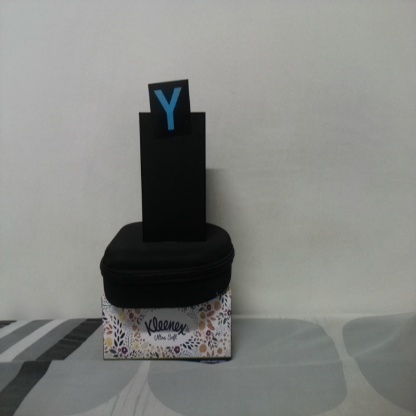id_14: (149, 85, 190, 136)
